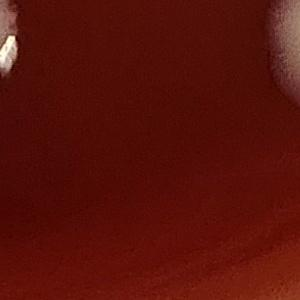colony: (259, 0, 300, 132), (0, 0, 28, 86)
